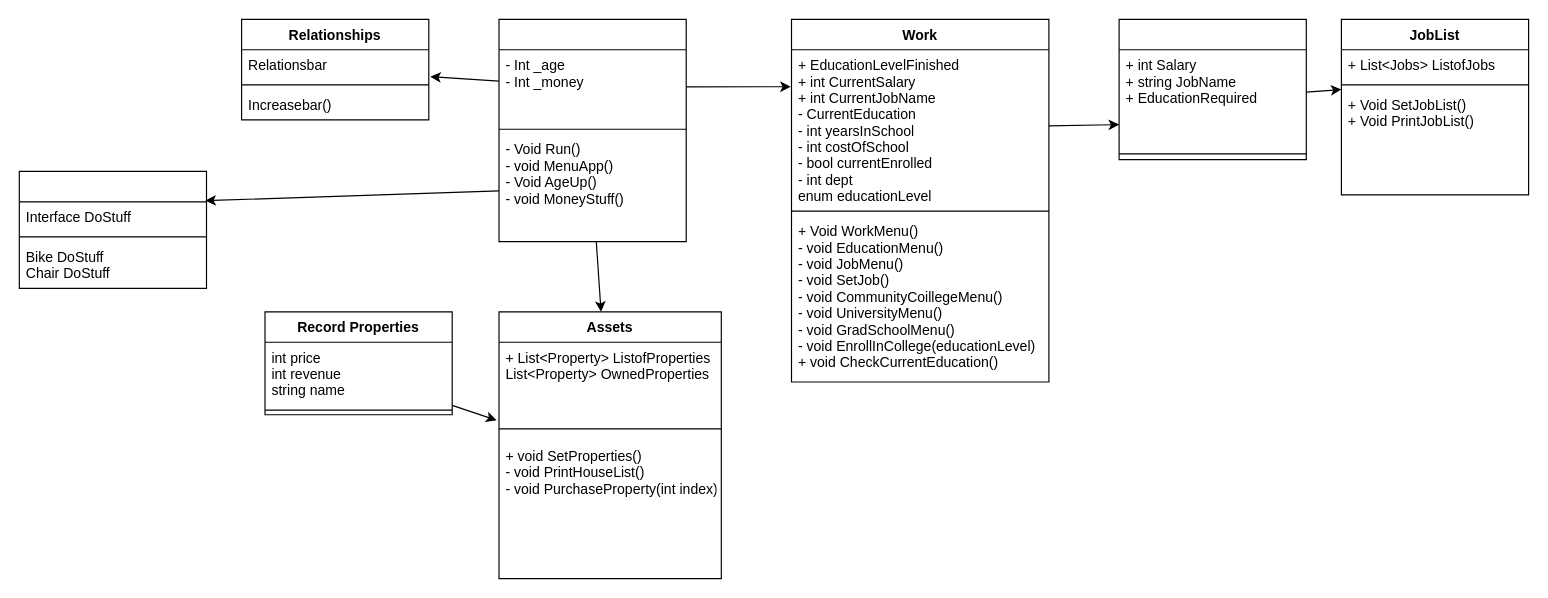
Some shapes in this 1548 by 598 pixel diagram are drawn without their labels. The box of each missing label's shape, as (x1, y1, x2, y2) in pixels:
Activites: (18, 170, 207, 288)
LIfeGameApp: (498, 18, 686, 242)
Struct Jobs: (1118, 18, 1306, 160)
